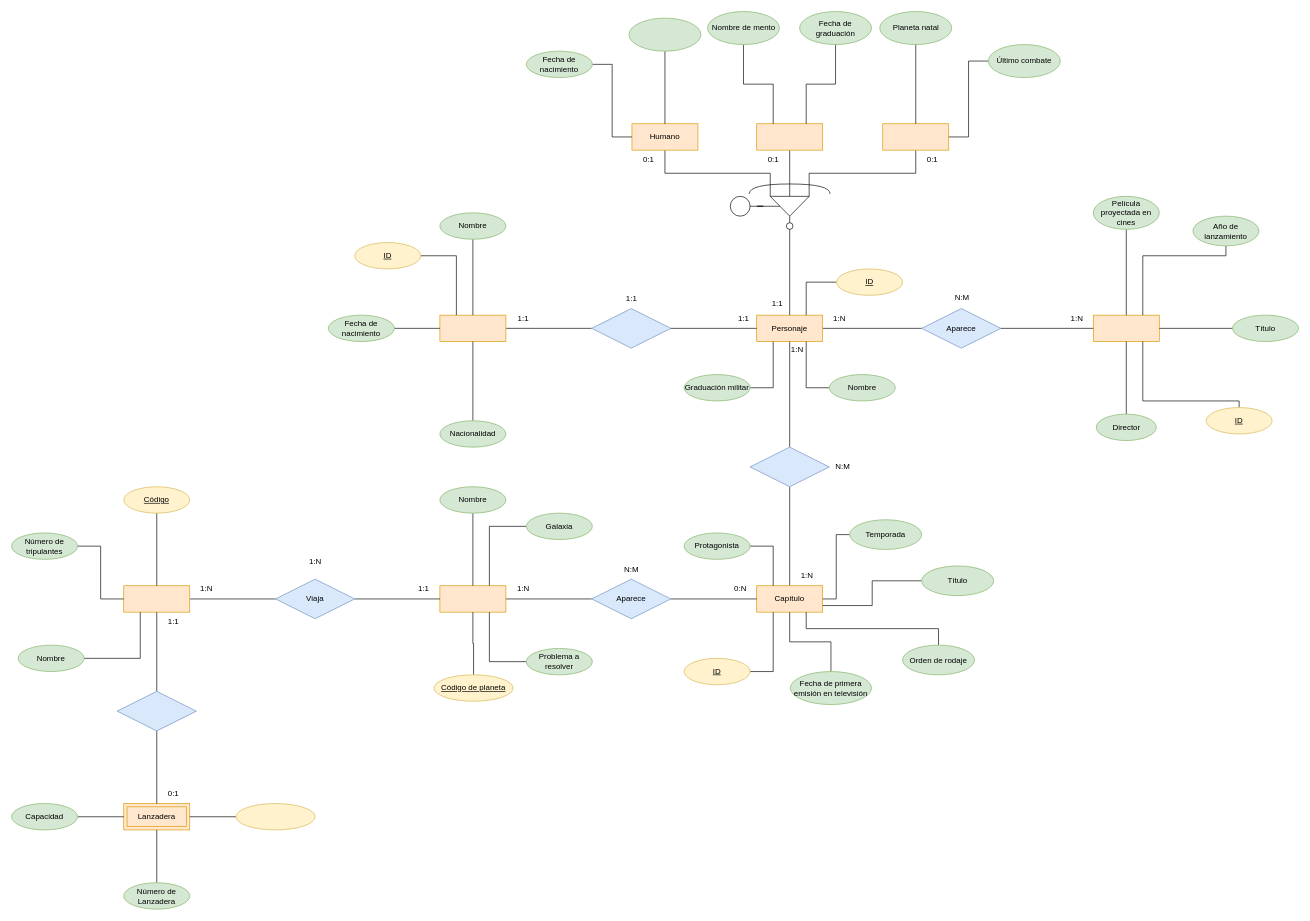
The diagram is 1310 pixels wide and 921 high, and some of its shapes have lost their labels. The centre of each missing label's shape, as x and y in pixels:
"Actor" belongs at point 472,328.
"Ciudad terráquea de nacimiento" belongs at point 664,34.
"Código de nave" belongs at point 275,816.
"Dispone" belongs at point 156,711.
"Interpreta" belongs at point 631,328.
"Klingon" belongs at point 915,136.
"Nave" belongs at point 156,598.
"Participa" belongs at point 789,466.
"Película" belongs at point 1126,328.
"Planeta" belongs at point 472,598.
"Tipo" belongs at point 740,206.
"Vulcano" belongs at point 789,136.
